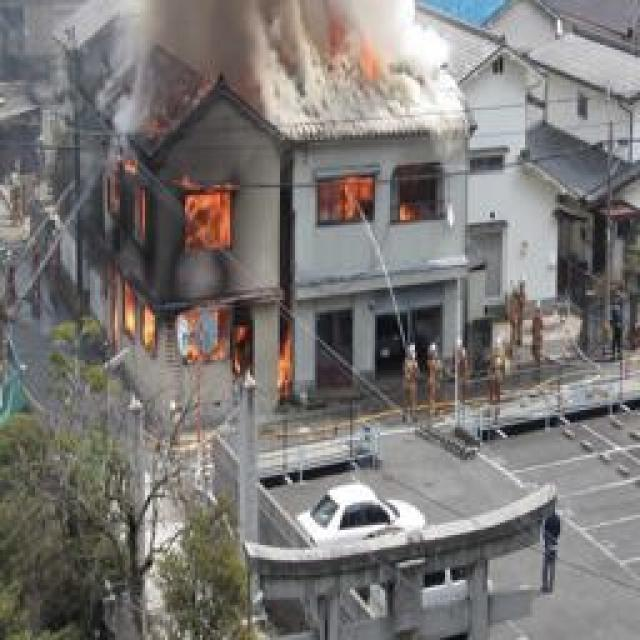Fire: (75, 140, 304, 426), (320, 0, 400, 106), (313, 168, 428, 232)
